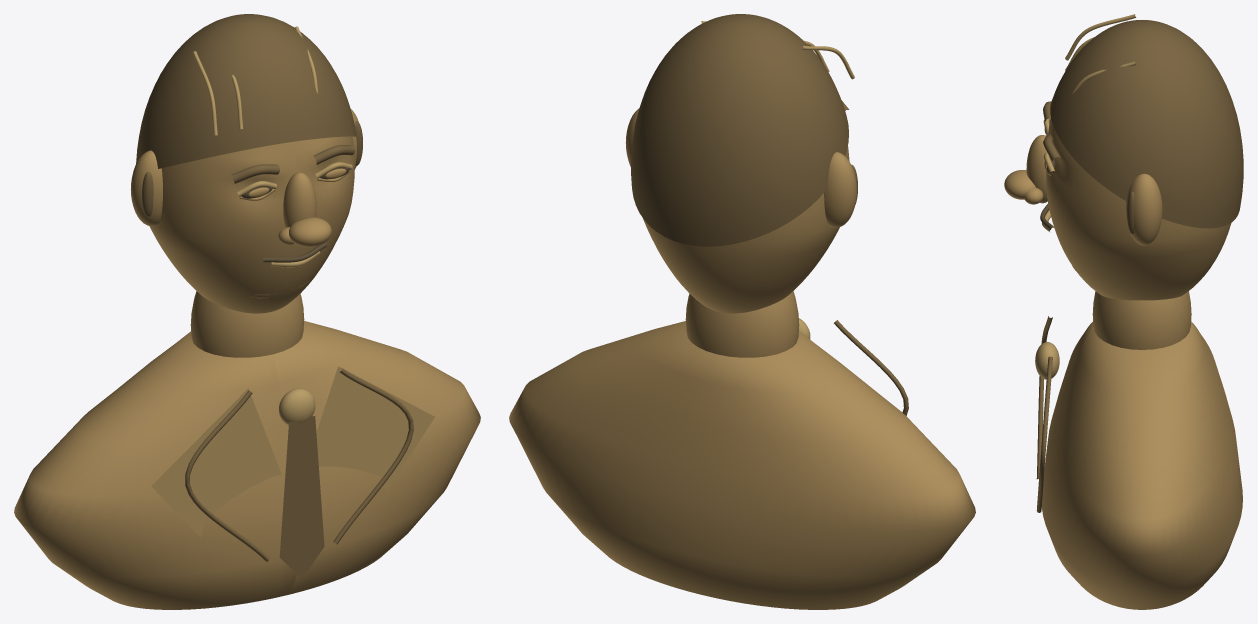
3 views of the same model, side by side, from view 1: azimuth 30°, elevation 25°; view 2: azimuth 150°, elevation 25°; view 3: azimuth 270°, elevation 25° (orthographic). The views are drawn at different scales.
Parts seen in each view (by area): view 1: jk; view 2: jk; view 3: jk.
Part boxes in pixels (box(x1,y1,x2,y2)): jk: box(14, 14, 480, 609); jk: box(509, 14, 975, 609); jk: box(1004, 14, 1243, 609).
Size of the model in its own units: 1.22 by 1.39 by 0.5817.
